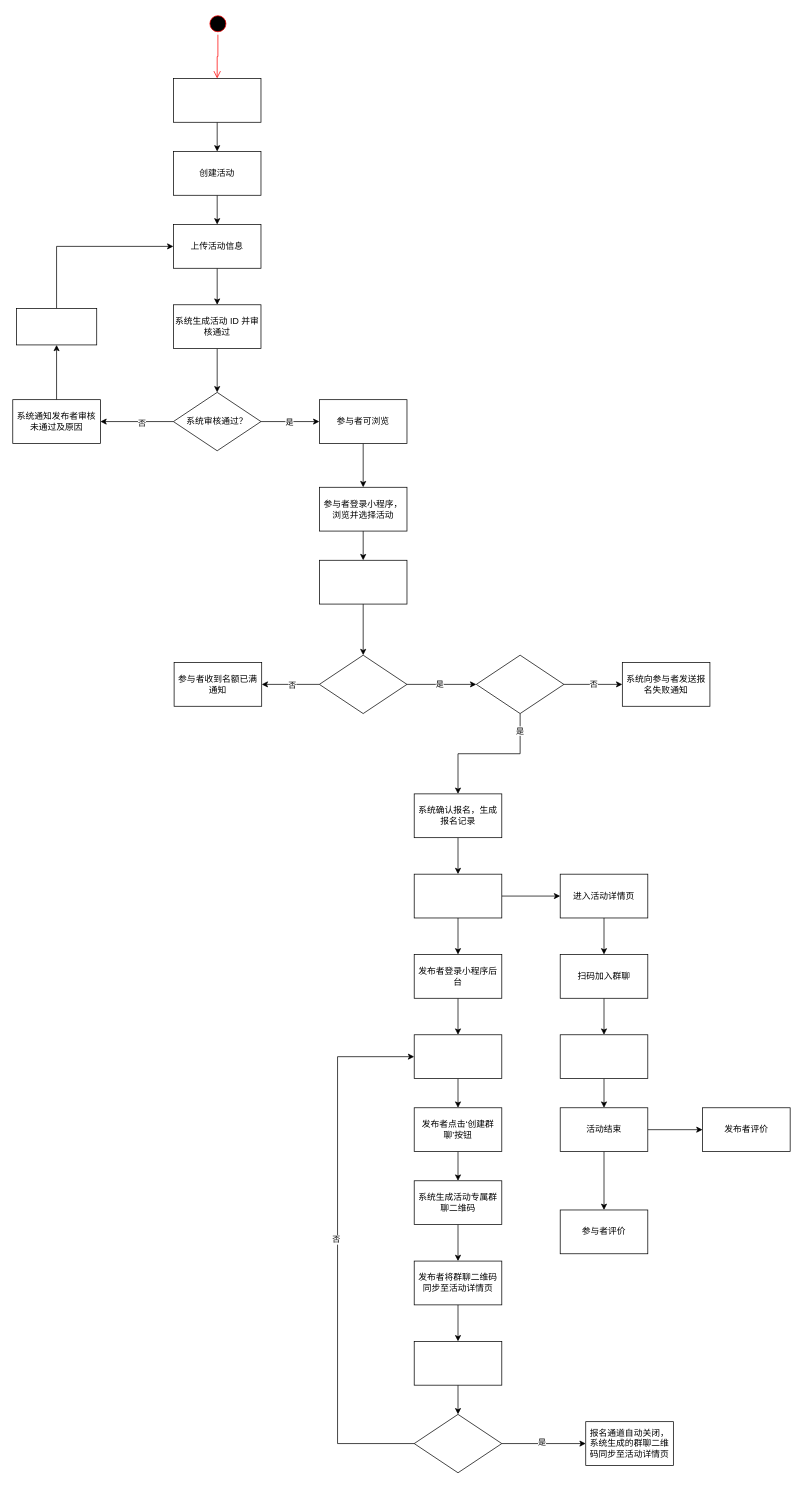
The diagram is 803 pixels wide and 1486 high, and some of its shapes have lost their labels. Each missing label, with the centre of its shape:
参与者收到报名成功通知: pixel 457 895
发布者修改活动信息: pixel 56 326
发布者审核是否通过？: pixel 520 684
发布者登录小程序: pixel 217 100
发布者确认关闭: pixel 457 1443
报名名额未满？: pixel 363 684
提交报名申请: pixel 363 582
查看报名列表: pixel 457 1056
活动开始: pixel 603 1056
系统弹出‘生成二维码将自动关闭报名通道，确认吗？’提示: pixel 457 1363
